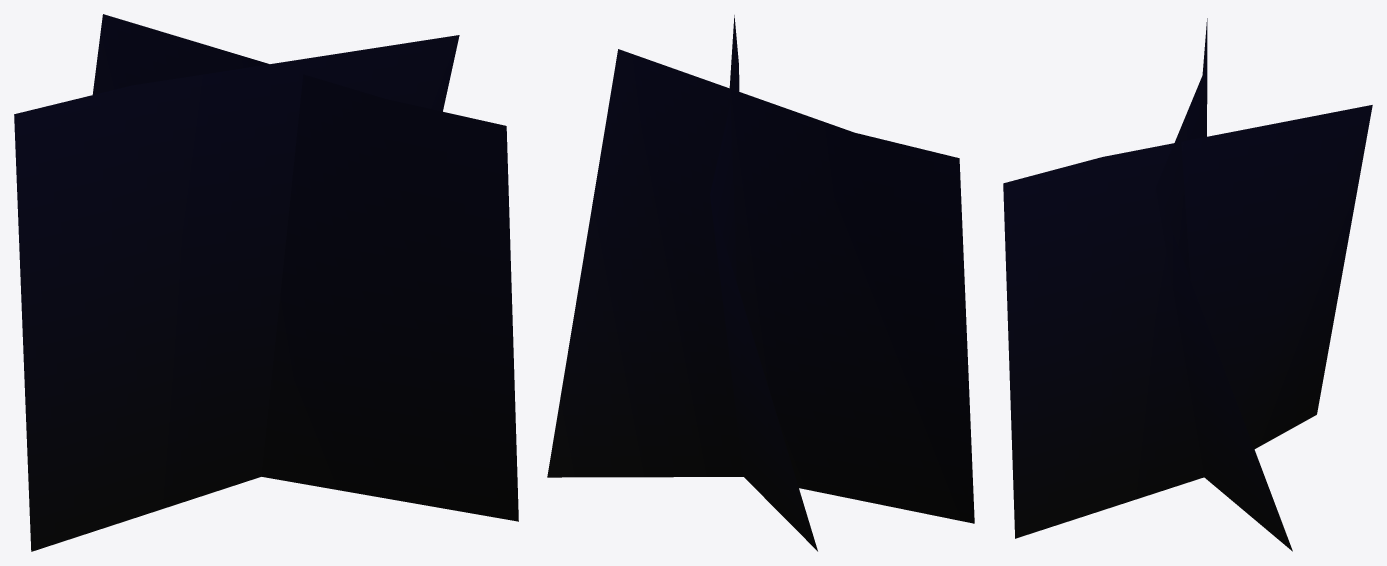
The model's file is GrassA_shadowed.fbx.
3 renders of one model, left to right at view 1: azimuth 30°, elevation 25°; view 2: azimuth 150°, elevation 25°; view 3: azimuth 270°, elevation 25°, orthographic. The views are drawn at different scales.
Parts seen in each view (by area): view 1: GrassA; view 2: GrassA; view 3: GrassA.
Boxes of the visible parts, bbox=[...] form: GrassA: bbox=[14, 14, 518, 551]; GrassA: bbox=[547, 15, 974, 551]; GrassA: bbox=[1003, 18, 1372, 551].
Bounding box in the file's own units: 0.7534 × 0.7368 × 0.6774.
